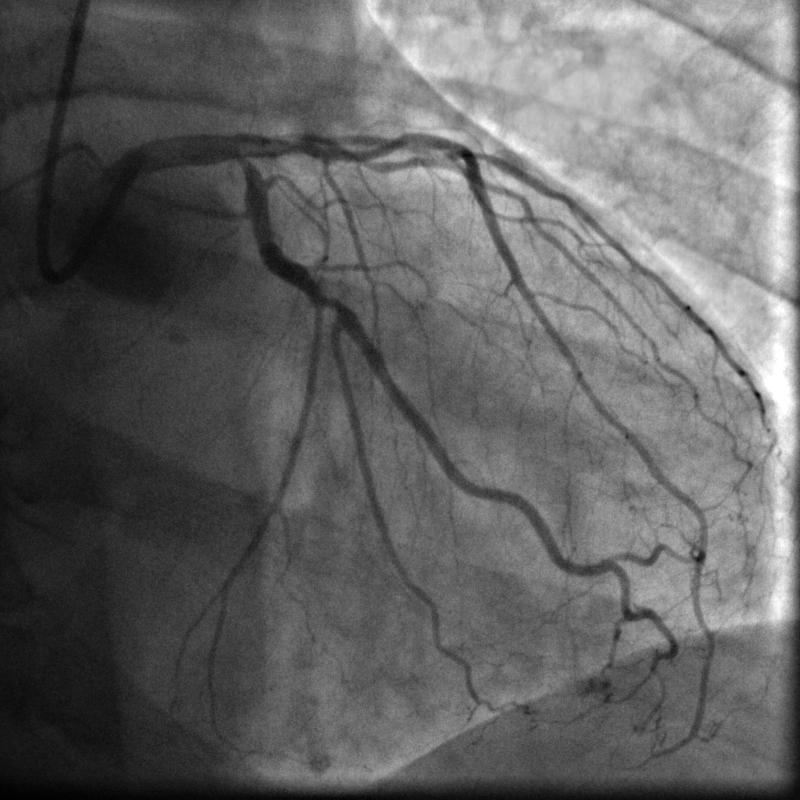Stenosis: (322, 289, 344, 314)
